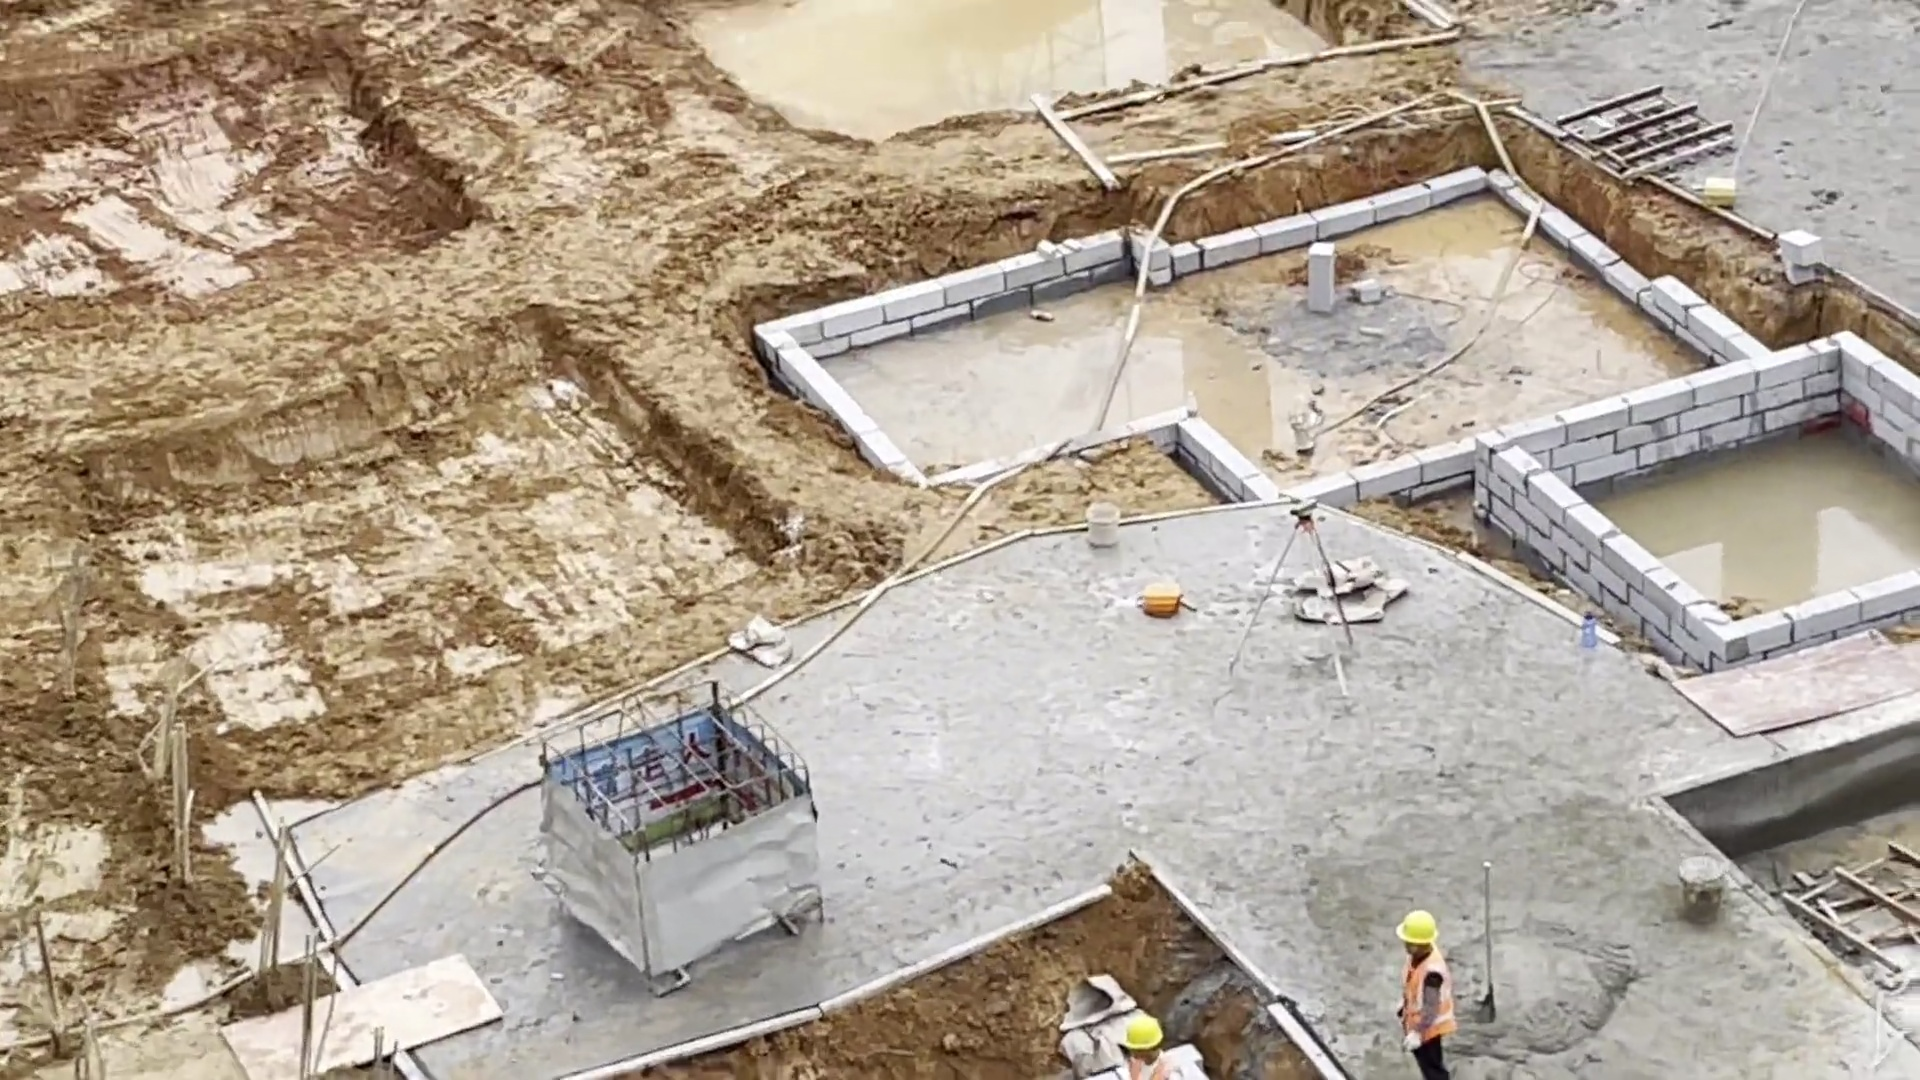helmet: (1396, 908, 1437, 945), (1120, 1014, 1164, 1047)
person: (1388, 905, 1459, 1080), (1114, 1008, 1174, 1080)
vest: (1400, 951, 1454, 1050)
